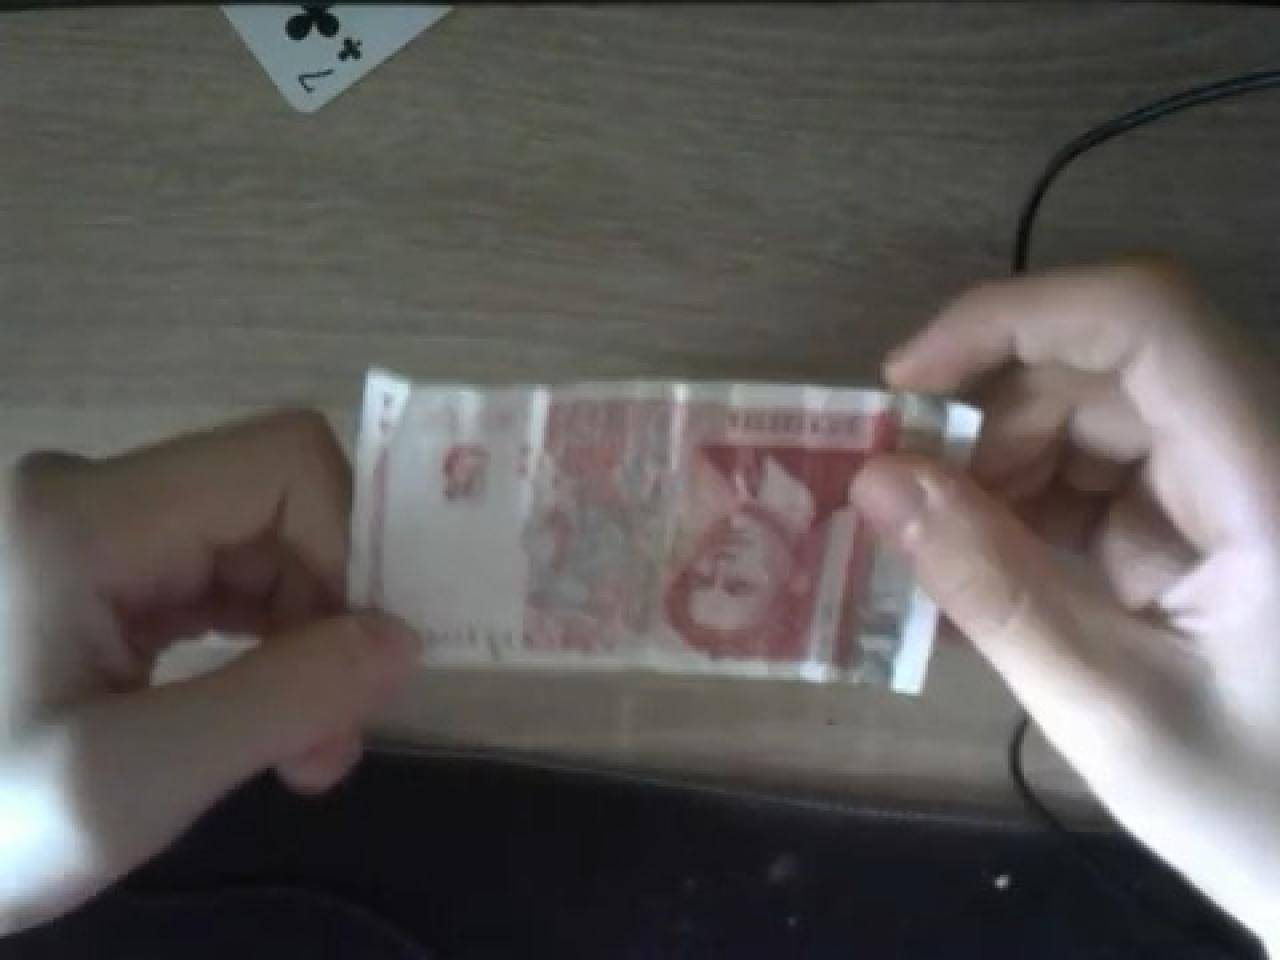5leva: (661, 422, 854, 650)
